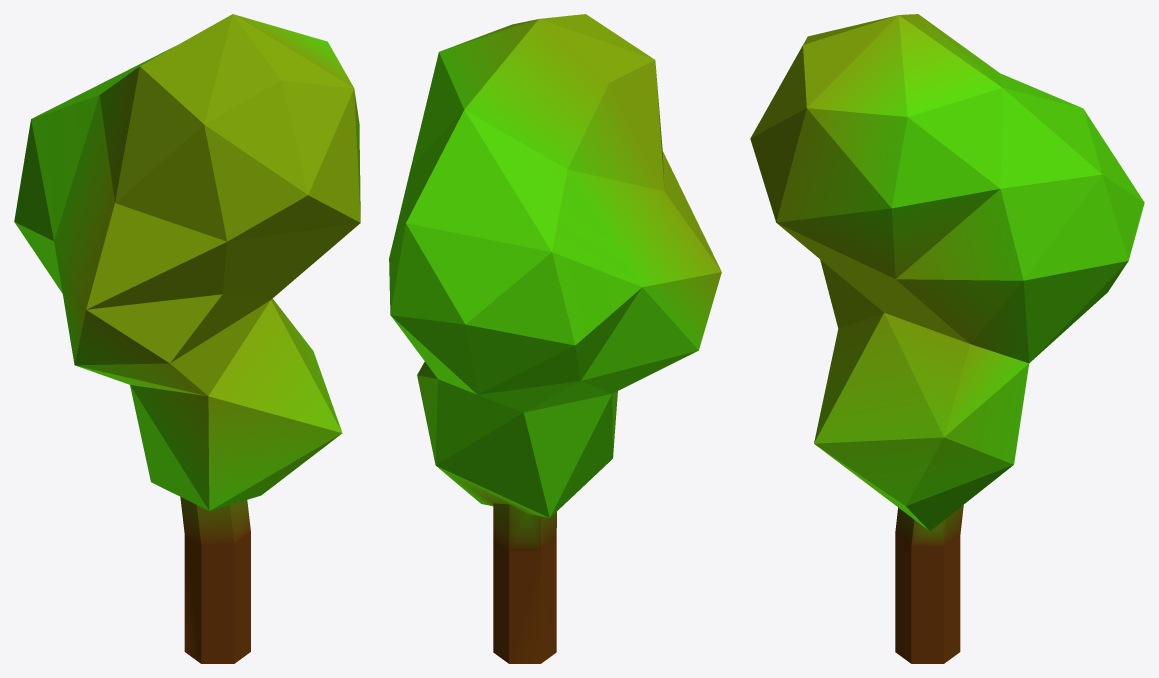
The model's file is tree_2.fbx.
3 renders of one model, left to right at view 1: azimuth 30°, elevation 25°; view 2: azimuth 150°, elevation 25°; view 3: azimuth 270°, elevation 25°, orthographic. The views are drawn at different scales.
Parts seen in each view (by area): view 1: tree_2; view 2: tree_2; view 3: tree_2.
Part boxes in pixels (x1,y1,x2,y2): tree_2: (14,14,360,663); tree_2: (389,14,721,663); tree_2: (750,14,1144,663).
Size of the model in its own units: 3.63 by 7.72 by 4.33.
